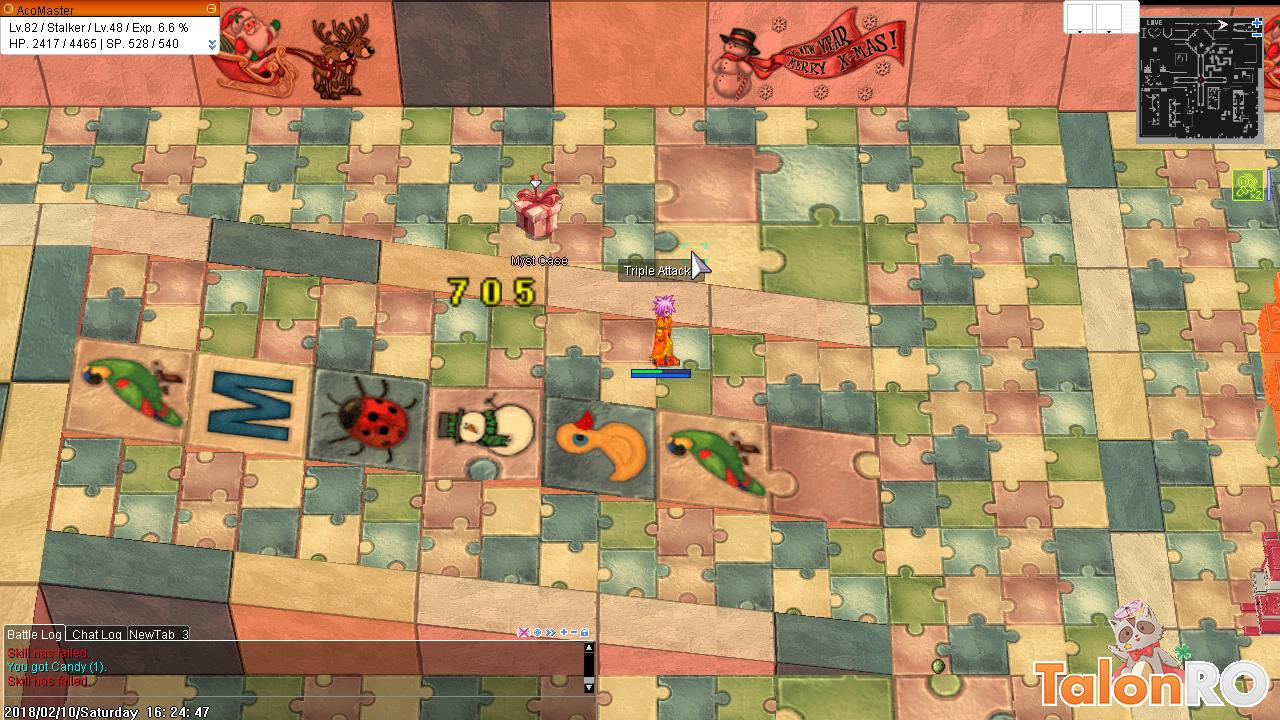myst_case: (509, 176, 563, 245)
